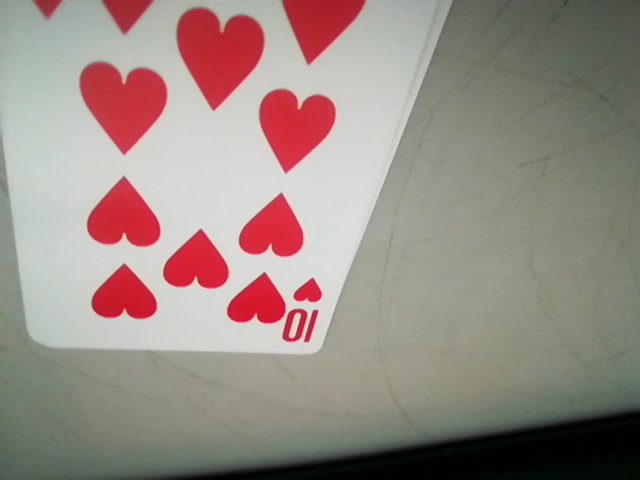hx 10: (276, 277, 342, 351)
